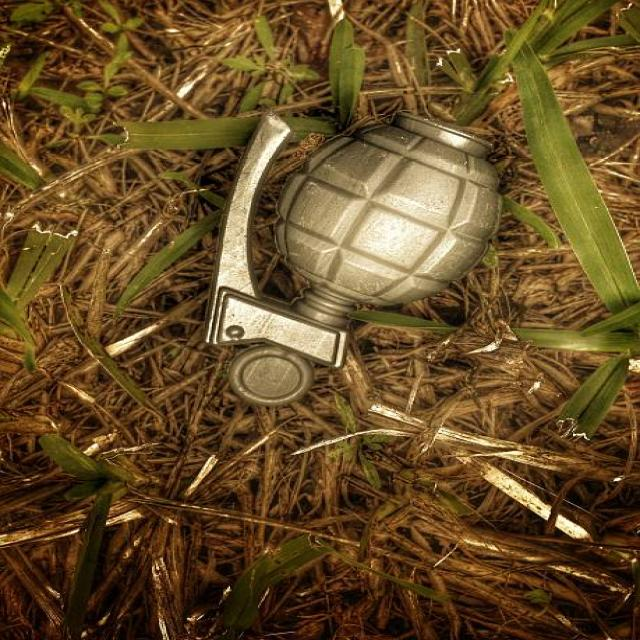grenade: (196, 105, 511, 405)
